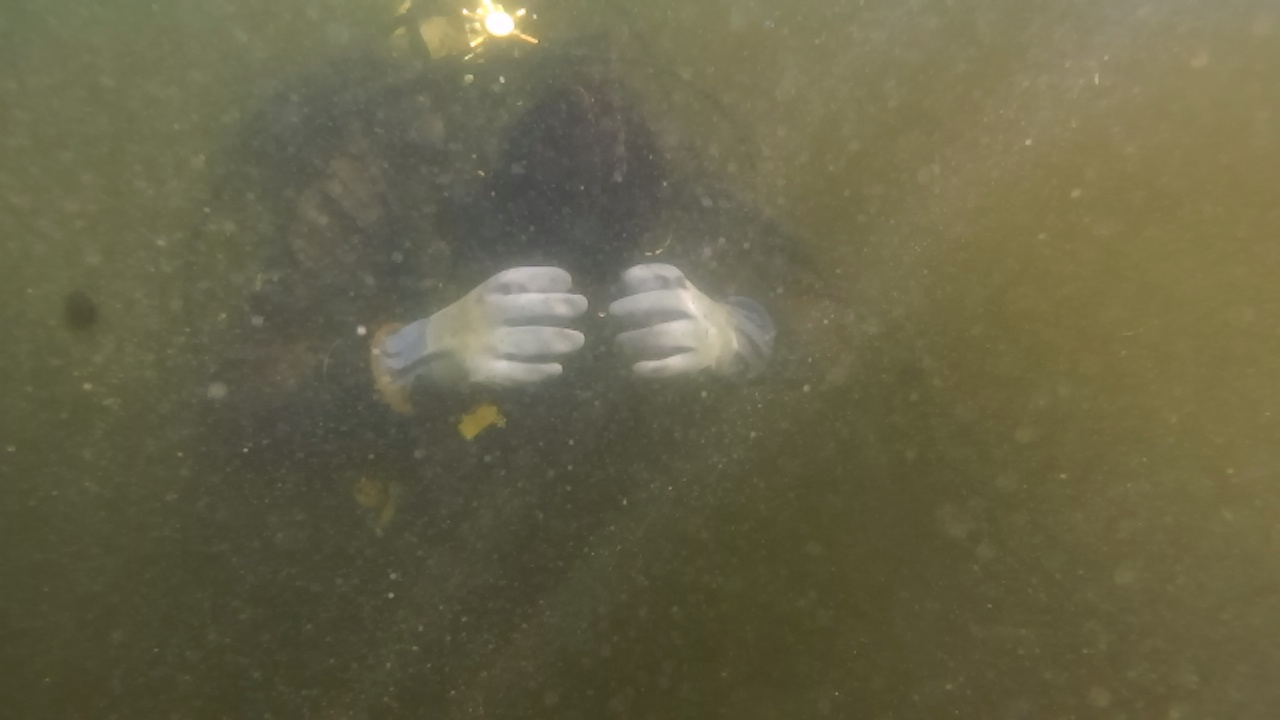Diver: (184, 2, 894, 576)
Hand: (376, 256, 588, 416), (608, 254, 766, 394)
